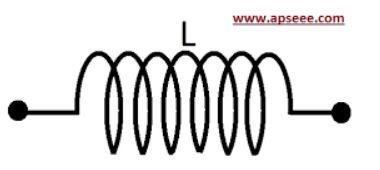inductor: (69, 47, 302, 155)
